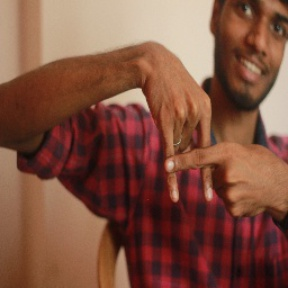H: (141, 85, 249, 214)
